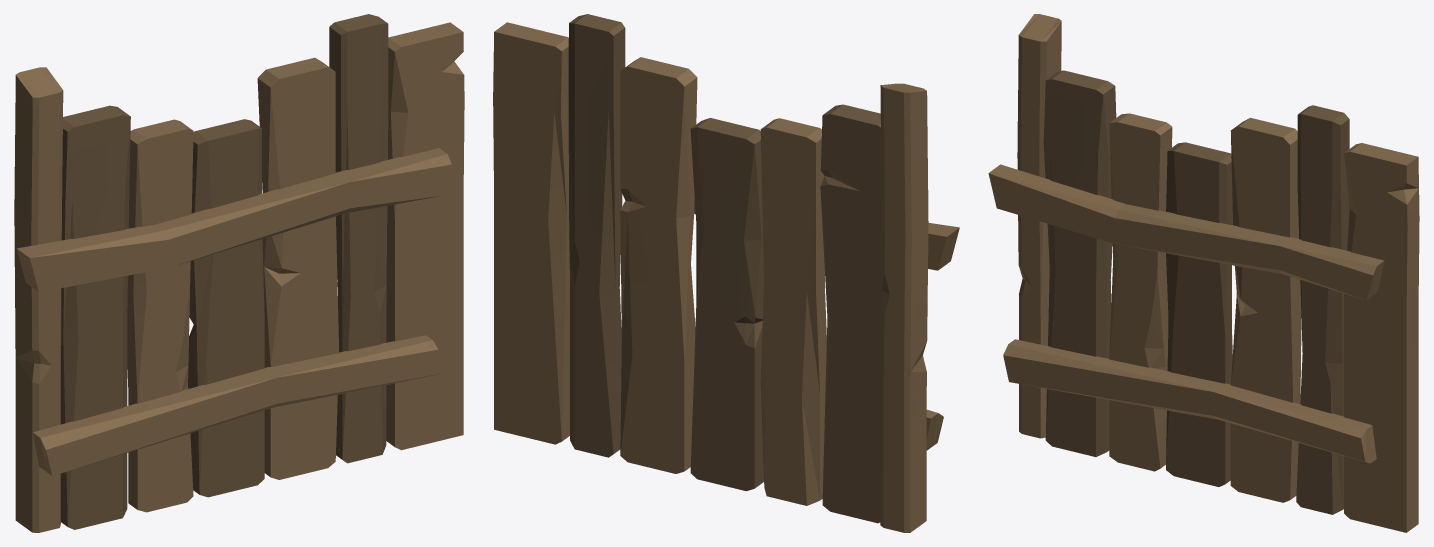
File: Valla_02.glb
The picture shows the model from 3 angles, left to right: view 1: azimuth 30°, elevation 25°; view 2: azimuth 150°, elevation 25°; view 3: azimuth 330°, elevation 25°; orthographic projection. The views are drawn at different scales.
Parts seen in each view (by area): view 1: SM_Prop_Fence_Wood_03_1; view 2: SM_Prop_Fence_Wood_03_1; view 3: SM_Prop_Fence_Wood_03_1.
Part boxes in pixels (x1,y1,x2,y2): SM_Prop_Fence_Wood_03_1: [14, 14, 464, 532]; SM_Prop_Fence_Wood_03_1: [493, 14, 959, 532]; SM_Prop_Fence_Wood_03_1: [988, 14, 1419, 532].
Size of the model in its own units: 1.75 by 1.69 by 0.2285.
Materials: 1 (1 with a texture image).
